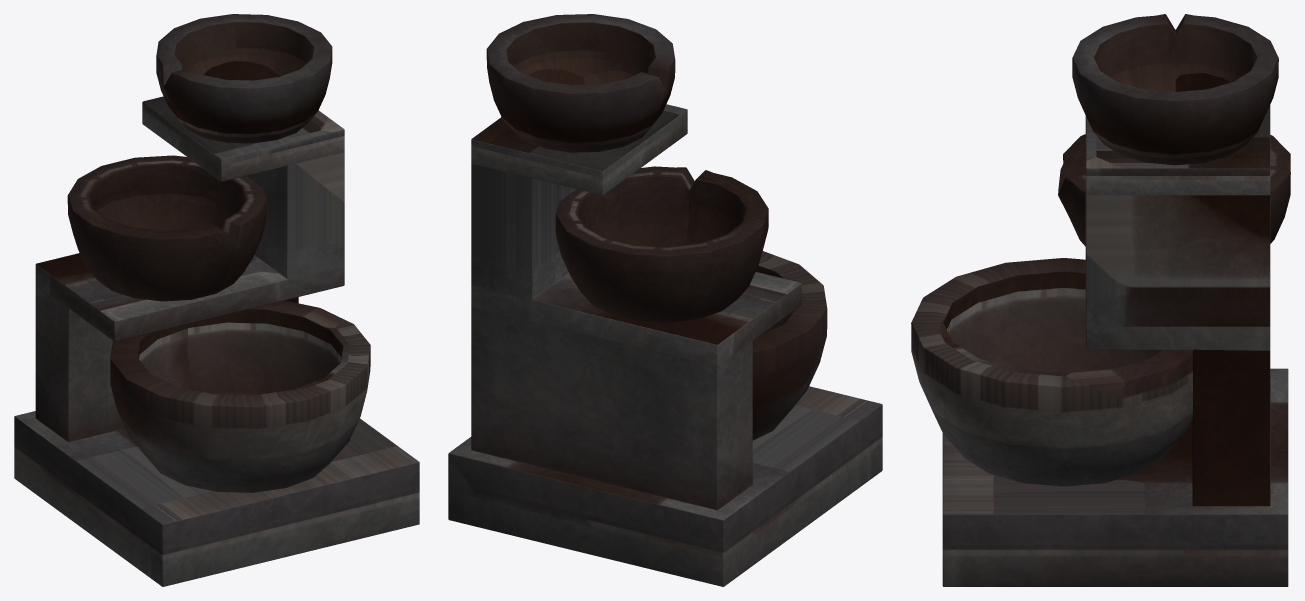
Rendered from WaterFountain.fbx.
The picture shows the model from 3 angles, left to right: view 1: azimuth 30°, elevation 25°; view 2: azimuth 150°, elevation 25°; view 3: azimuth 270°, elevation 25°; orthographic projection. The views are drawn at different scales.
Visible parts, largest first — view 1: Base_High; view 2: Base_High; view 3: Base_High.
Boxes of the visible parts, x1,y1,x2,y2 form: Base_High: (14, 14, 419, 586); Base_High: (448, 14, 882, 586); Base_High: (911, 14, 1290, 586).
Size of the model in its own units: 52.6 by 81.38 by 57.46.
